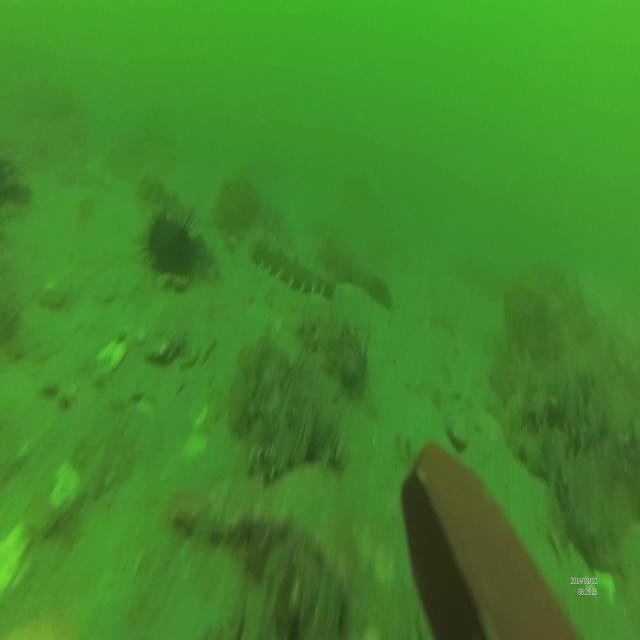echinus: (142, 208, 206, 278)
holothurian: (249, 234, 338, 304)
